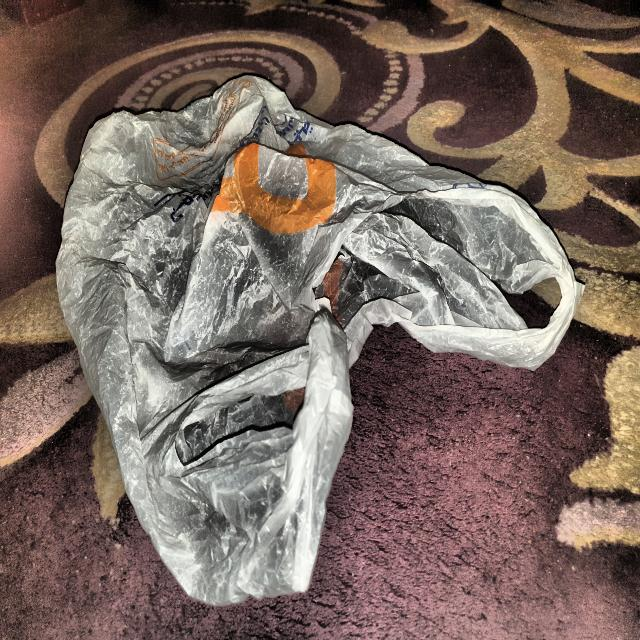plastic bag: (48, 56, 589, 613)
